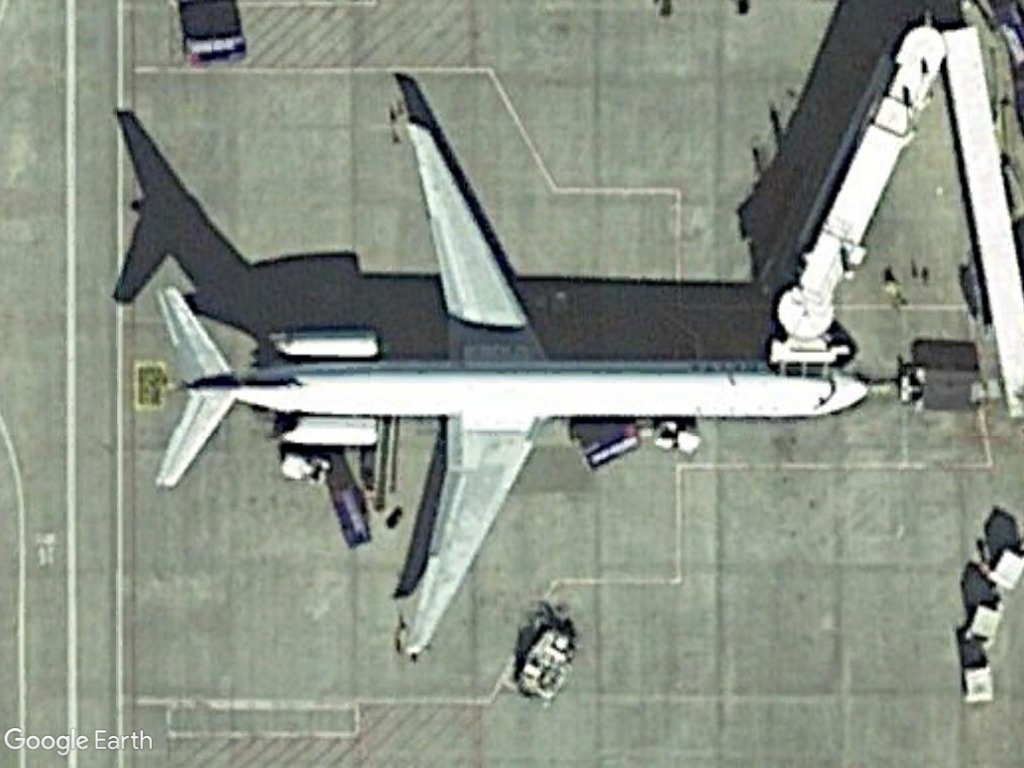chartered: (150, 105, 873, 664)
